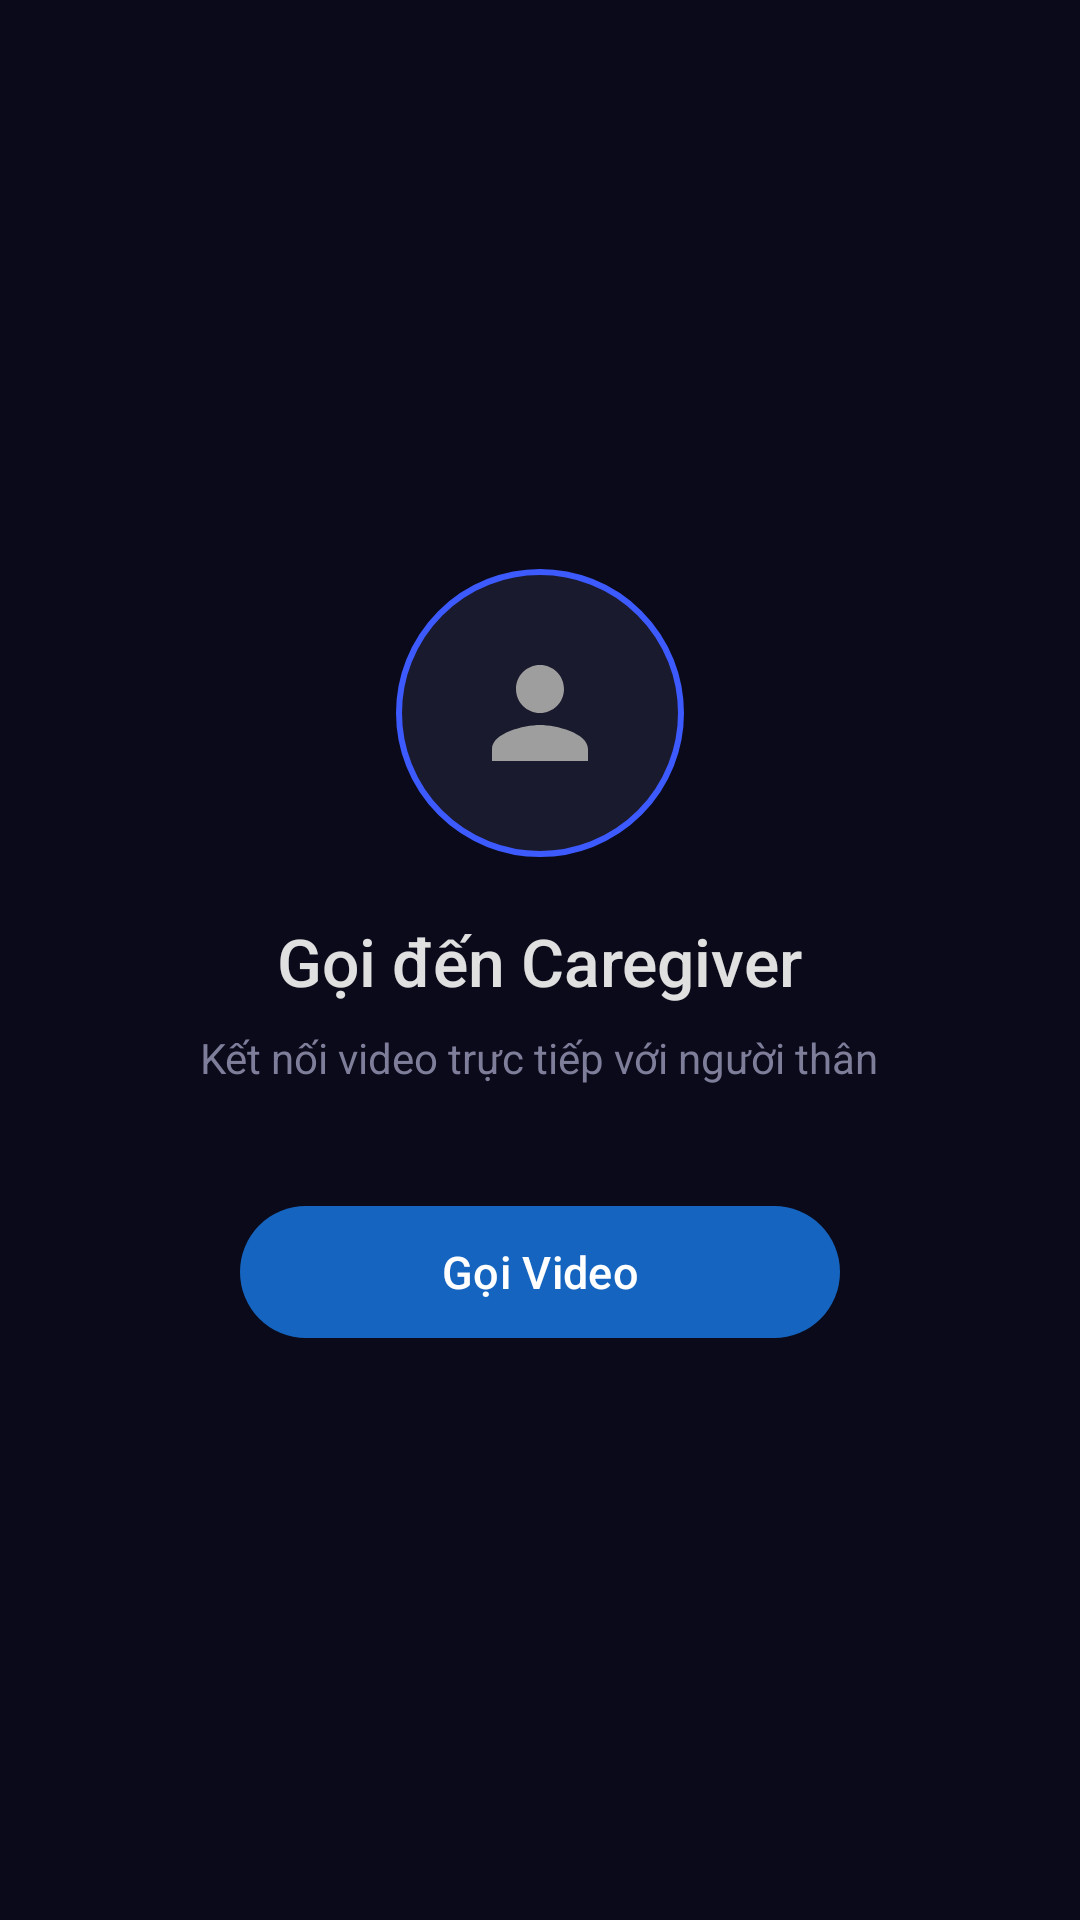

Named icons in this screenshot (1080w x 1920h) and their bounding boxes, box=[x1, y1, x2, y2]:
Caregiver avatar: box=[396, 569, 684, 857]
